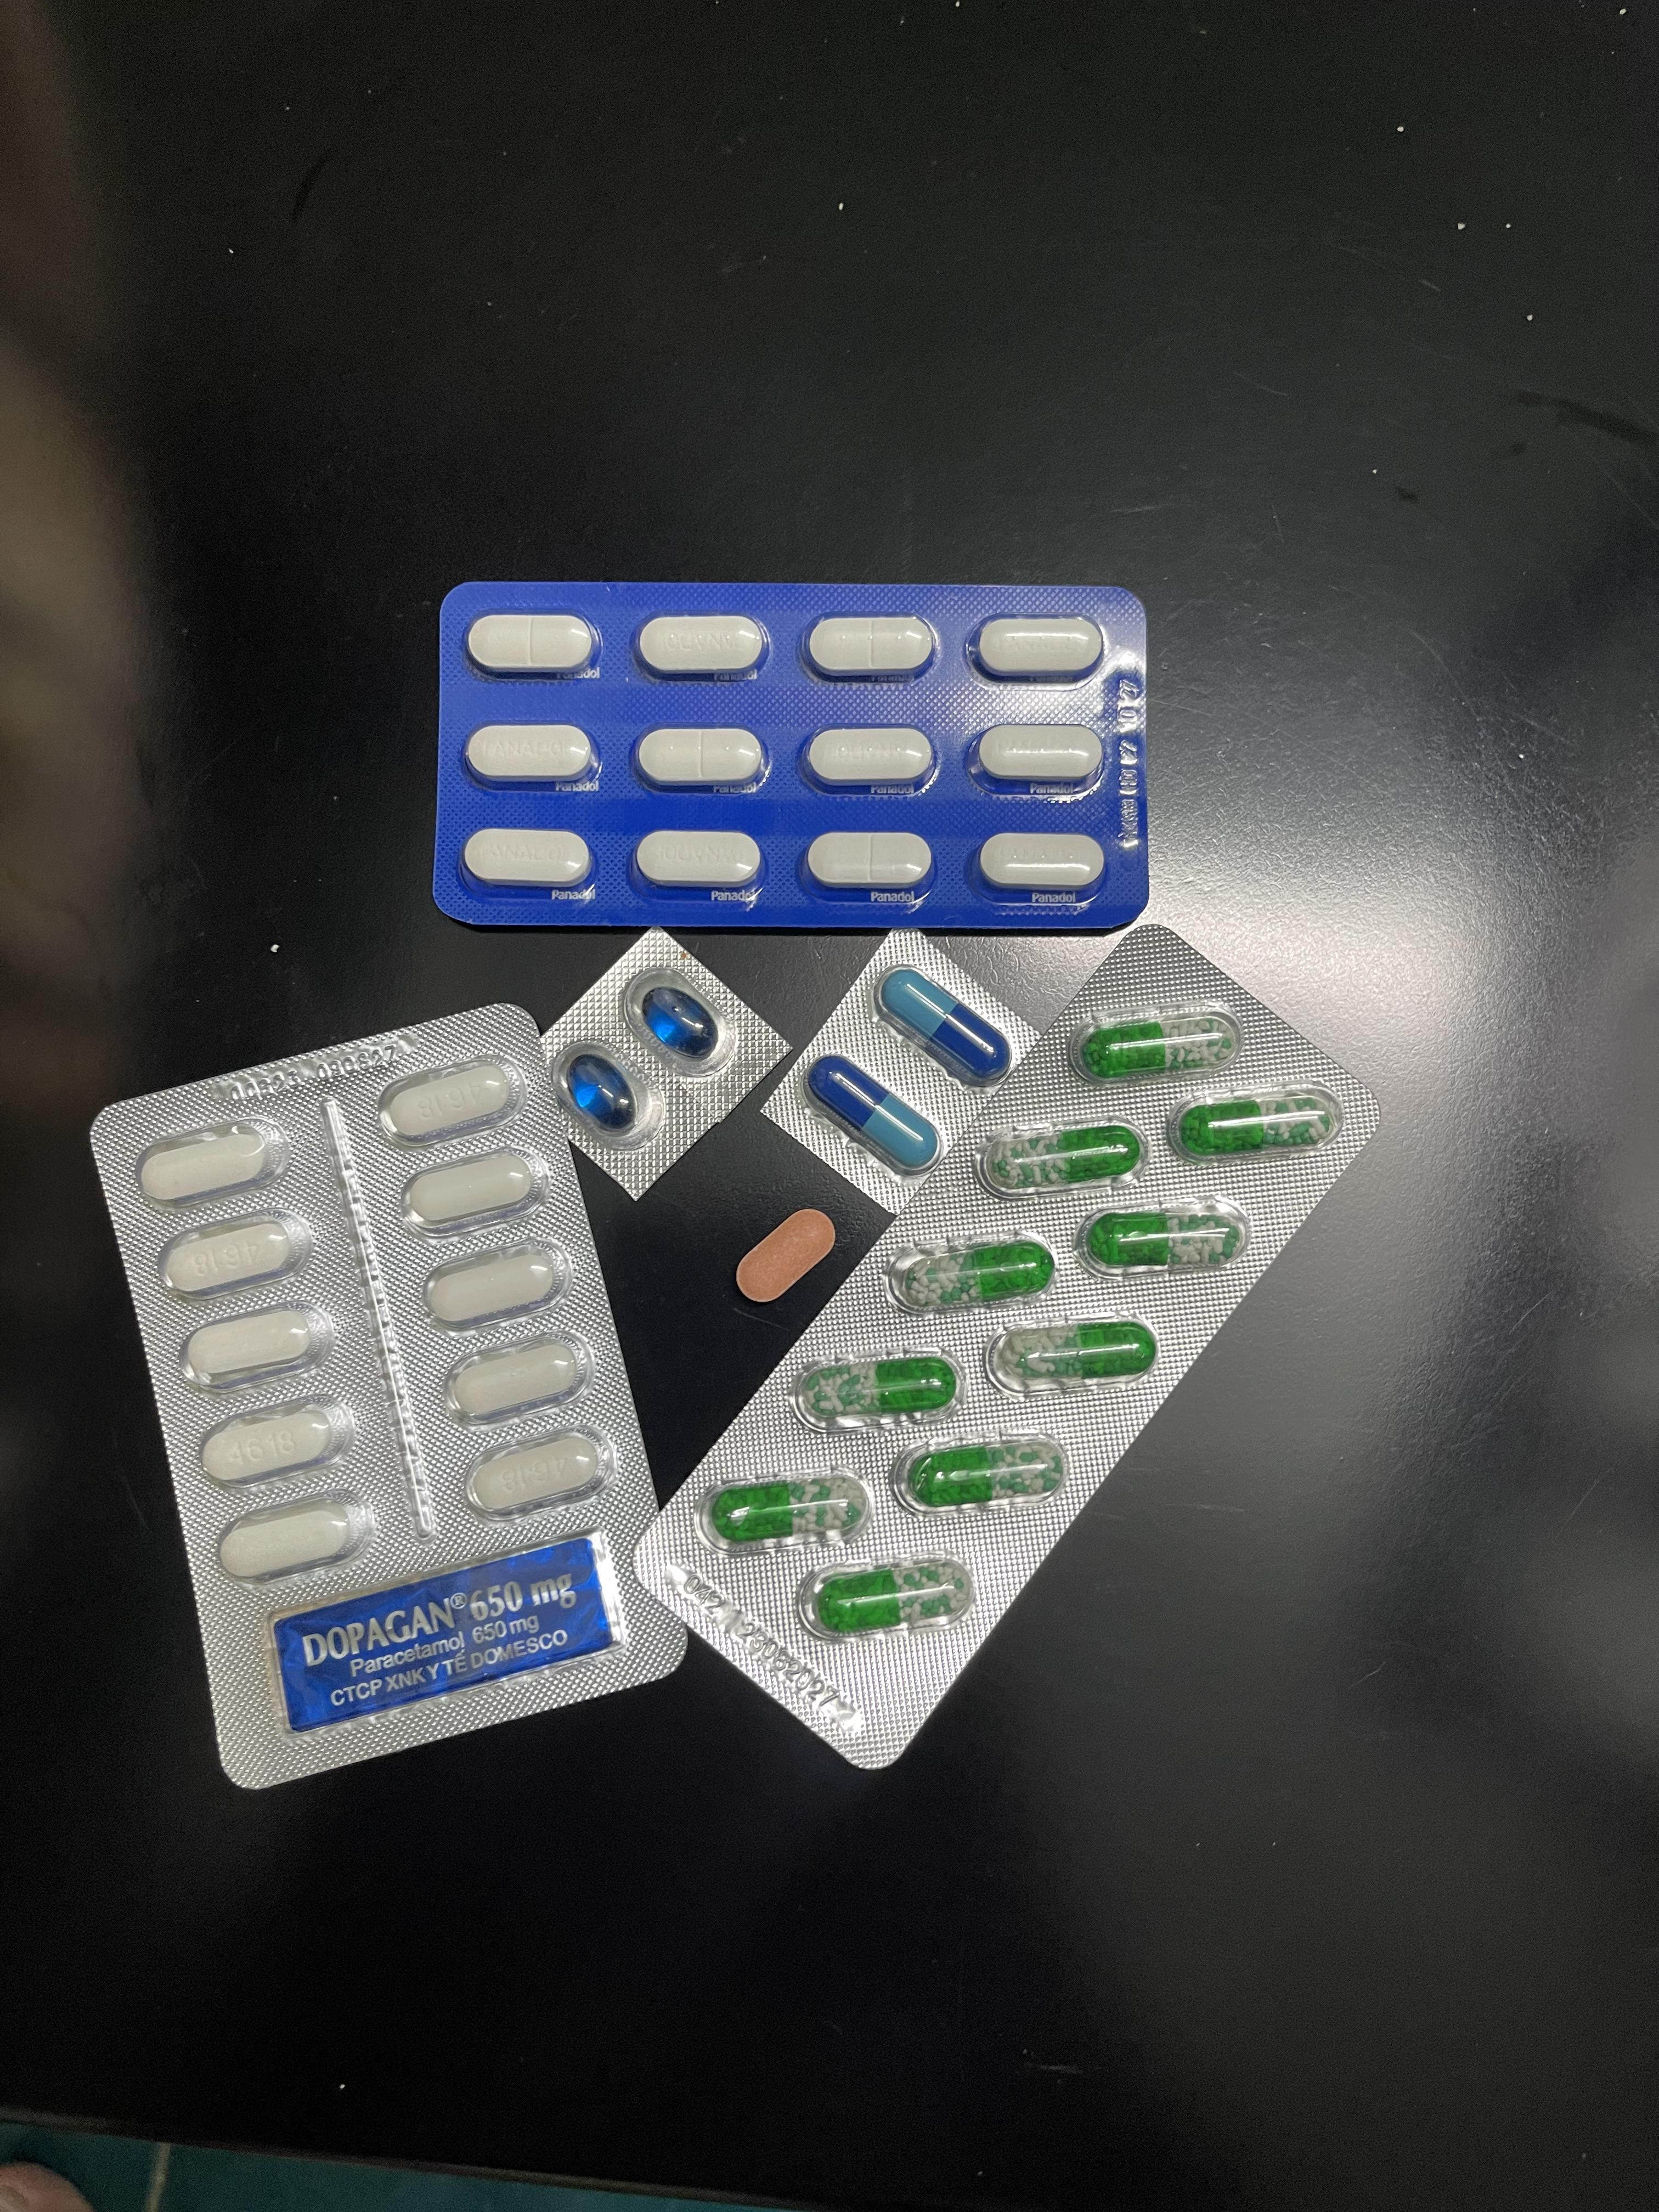Lincomyxin_500mg: (566, 1054, 638, 1130), (641, 986, 718, 1055)
Loratadine_10mg: (735, 1207, 836, 1303)
Paracetamol_350mg: (803, 615, 941, 681), (636, 613, 770, 679), (974, 615, 1107, 681), (467, 611, 598, 678), (802, 728, 938, 791), (634, 726, 765, 791), (465, 723, 594, 787), (803, 831, 936, 894), (636, 829, 767, 890), (464, 827, 592, 888), (976, 723, 1105, 784), (978, 833, 1108, 890)
Paracetamol_500mg: (216, 1491, 376, 1585), (179, 1303, 338, 1397), (200, 1393, 359, 1486), (159, 1209, 315, 1301), (138, 1115, 291, 1209), (462, 1430, 608, 1524), (444, 1334, 592, 1425), (422, 1242, 570, 1332), (376, 1055, 519, 1144), (401, 1151, 544, 1235)
Paracetamol_650mg: (701, 1474, 864, 1554), (896, 1437, 1061, 1515), (1173, 1087, 1342, 1162), (890, 1238, 1056, 1310), (798, 1353, 958, 1425), (1004, 1318, 1161, 1388), (814, 1564, 960, 1629), (1079, 1015, 1232, 1076), (997, 1125, 1141, 1188), (1087, 1209, 1237, 1264)
pill: (873, 968, 1012, 1083), (803, 1055, 936, 1172)
